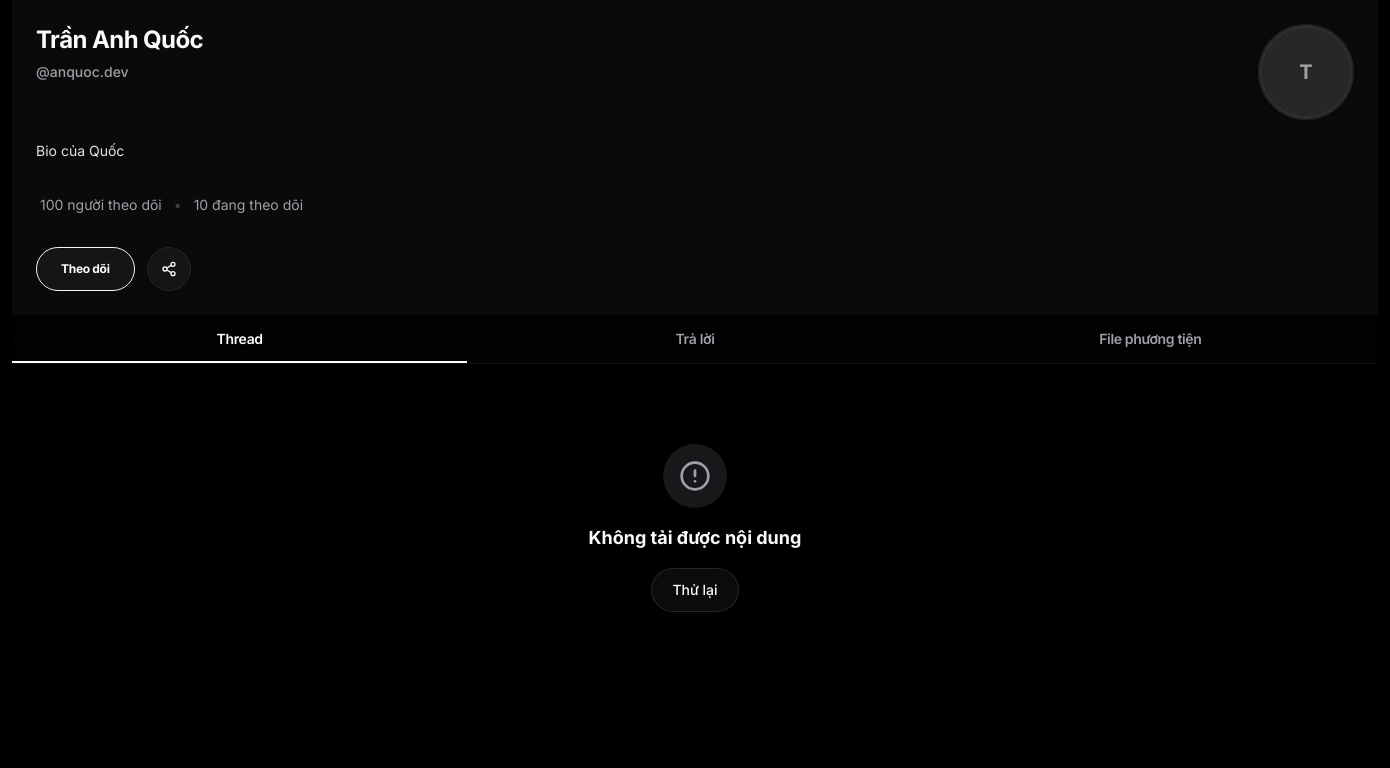
Test: ProfileContainer tabs › isolates a failing tab: header and the other tabs keep working
Check: the heading "Không tải được nội dung" is shown, box [589,524,801,552]
Check: the heading "Trần Anh Quốc" is shown, box [36,24,203,56]
Click the tab "Trả lời" at [695, 339], box [467,315,923,363]
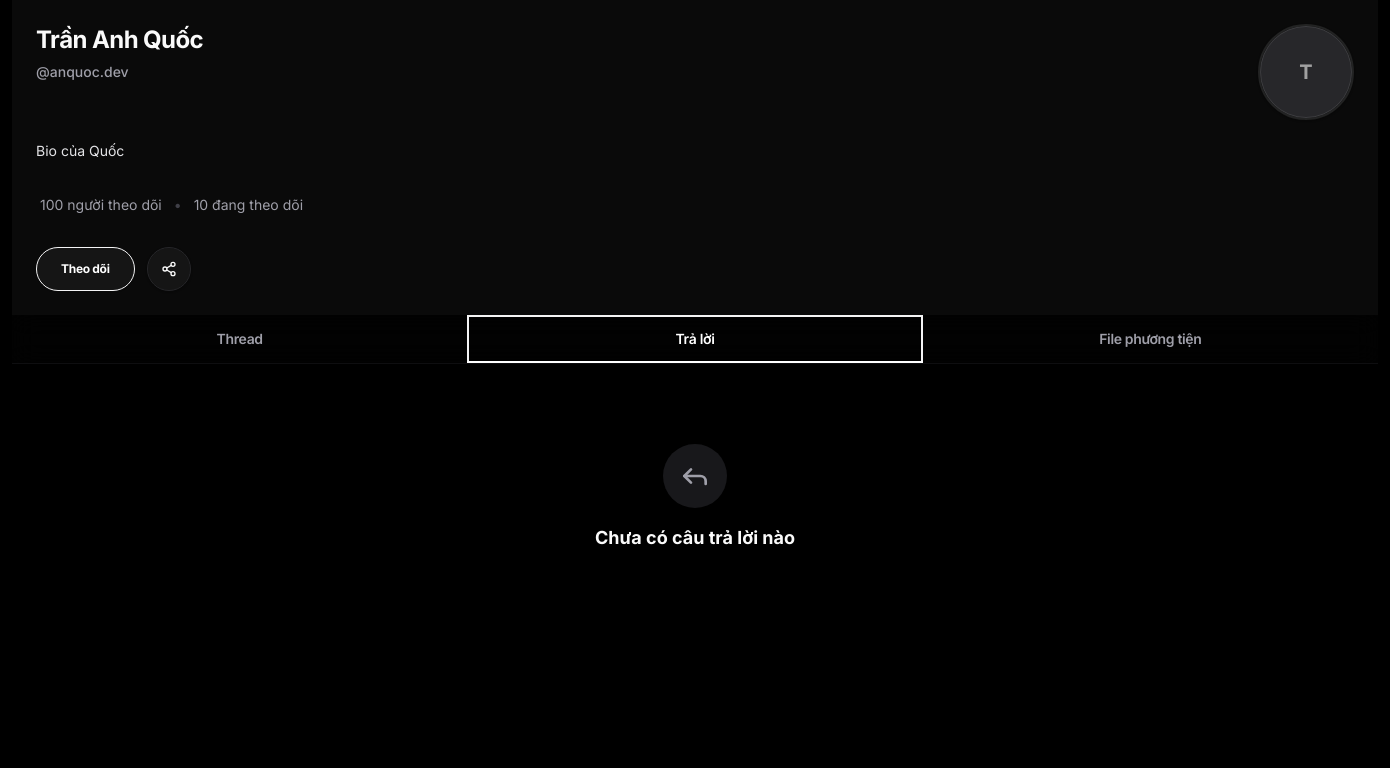
Check: the heading "Chưa có câu trả lời nào" is shown, box [595,524,795,552]
